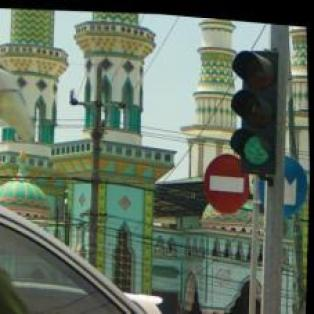Semaforo Verde: (225, 38, 281, 172)
